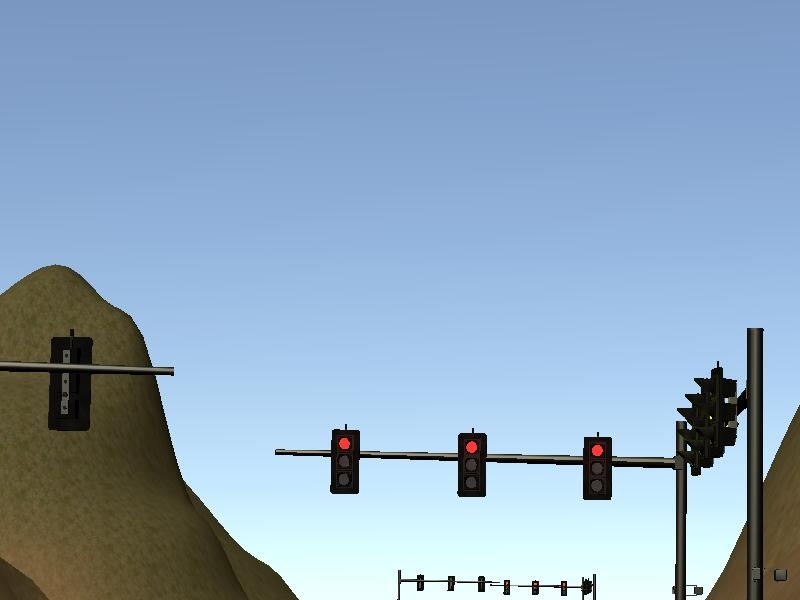red: (584, 438, 612, 499), (331, 432, 357, 492), (459, 432, 483, 496)
